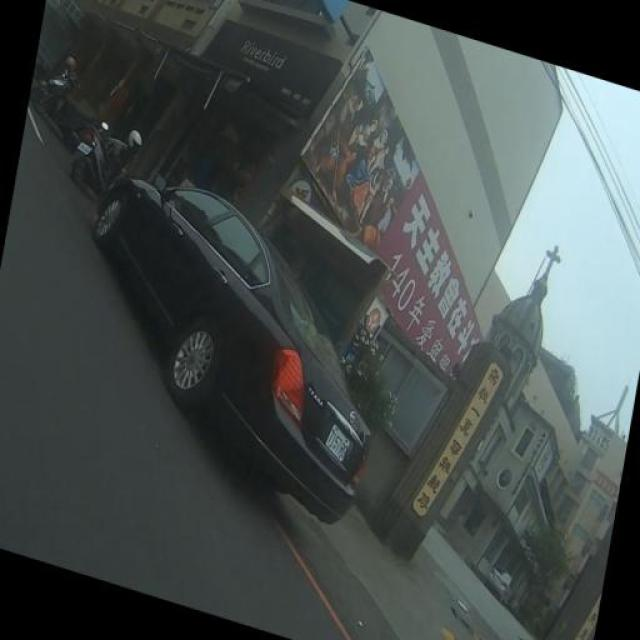Legalparking: (86, 130, 470, 546)
